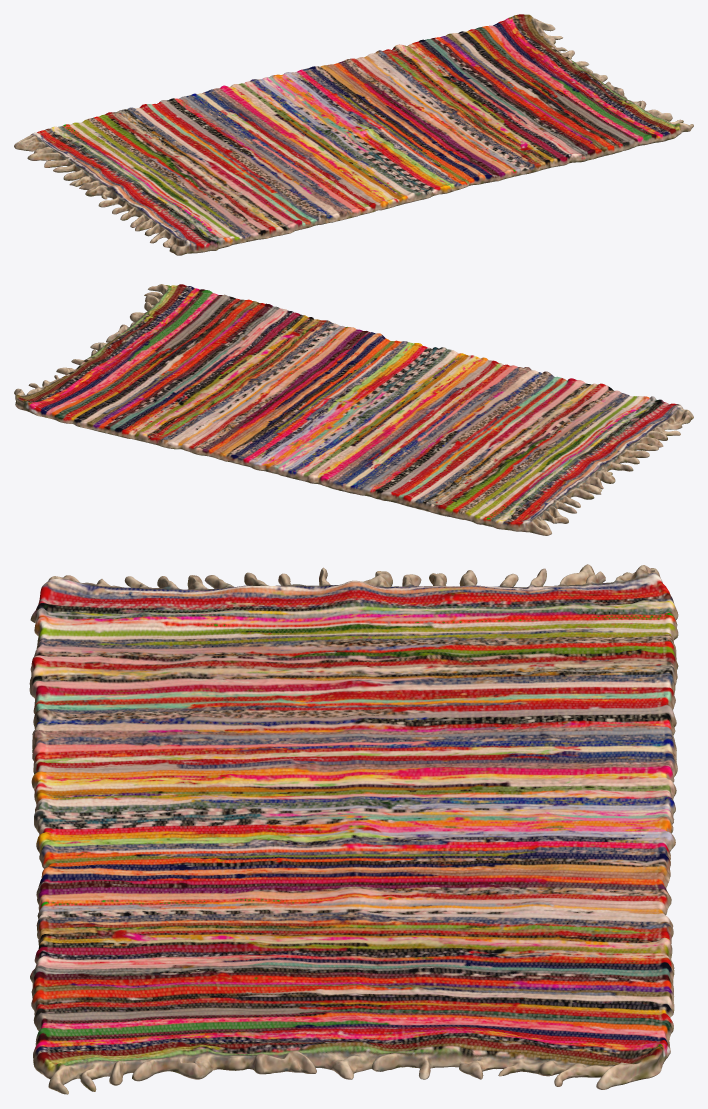
The model's file is area_rug_color_3d_scan.glb.
The picture shows the model from 3 angles, top to bottom: view 1: azimuth 30°, elevation 25°; view 2: azimuth 150°, elevation 25°; view 3: azimuth 270°, elevation 25°; orthographic projection. The views are drawn at different scales.
Visible parts, largest first — view 1: Object_2; view 2: Object_2; view 3: Object_2.
Boxes of the visible parts, x1=… form: Object_2: x1=14, y1=14, x2=693, y2=255; Object_2: x1=14, y1=284, x2=693, y2=535; Object_2: x1=29, y1=564, x2=678, y2=1094.
Size of the model in its own units: 1796 by 37.43 by 942.
1 material, 1 textured.
